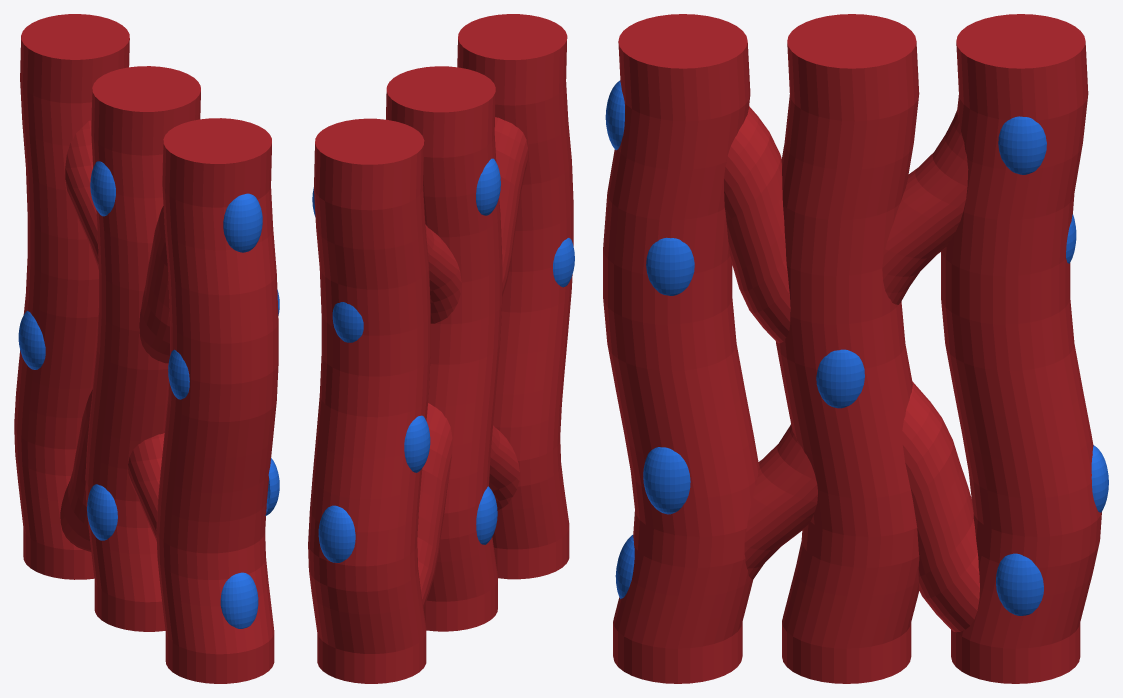
The model's file is Cardiac.gltf.
3 renders of one model, left to right at view 1: azimuth 30°, elevation 25°; view 2: azimuth 150°, elevation 25°; view 3: azimuth 270°, elevation 25°, orthographic. The views are drawn at different scales.
Parts seen in each view (by area): view 1: Cylinder.004; view 2: Cylinder.004; view 3: Cylinder.004.
Part boxes in pixels (x1,y1,x2,y2): Cylinder.004: (14, 14, 279, 683); Cylinder.004: (308, 14, 574, 683); Cylinder.004: (603, 14, 1108, 683).
Size of the model in its own units: 0.7728 by 3.54 by 2.64.
